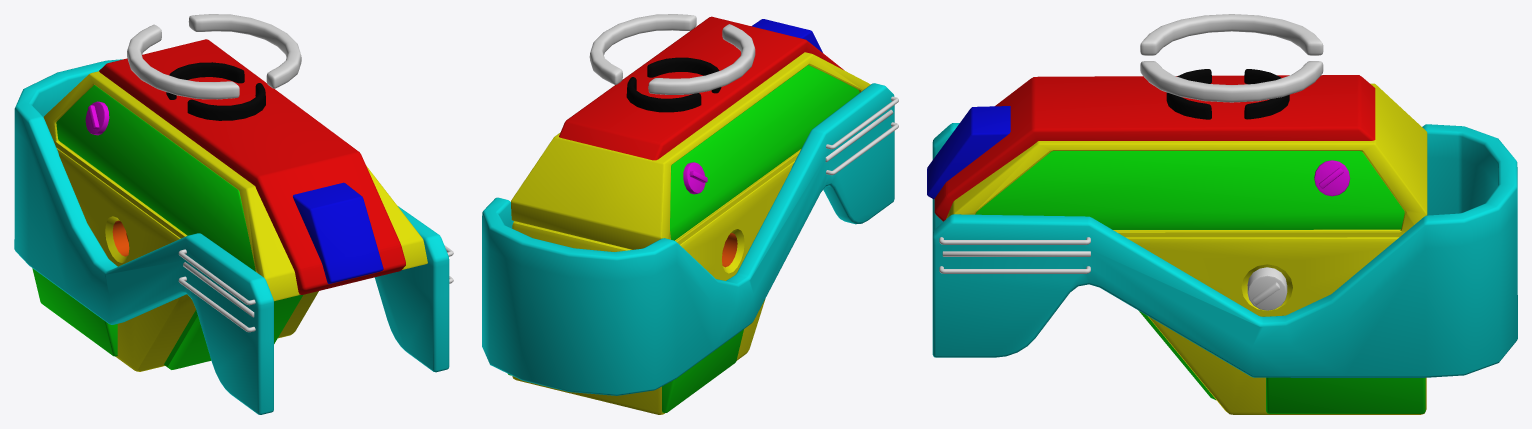
The model's file is Matrix_System.fbx.
3 views of the same model, side by side, from view 1: azimuth 30°, elevation 25°; view 2: azimuth 150°, elevation 25°; view 3: azimuth 270°, elevation 25° (orthographic). The views are drawn at different scales.
Parts seen in each view (by area): view 1: Matrix_Base, Matrix_Signal; view 2: Matrix_Base, Matrix_Signal; view 3: Matrix_Base, Matrix_Signal, Matrix_Pylon.
Part boxes in pixels (x1=…): Matrix_Base: x1=14, y1=39, x2=453, y2=414; Matrix_Signal: x1=127, y1=14, x2=301, y2=99; Matrix_Base: x1=482, y1=16, x2=898, y2=414; Matrix_Signal: x1=589, y1=14, x2=755, y2=94; Matrix_Base: x1=927, y1=69, x2=1517, y2=414; Matrix_Signal: x1=1140, y1=14, x2=1323, y2=102; Matrix_Pylon: x1=1247, y1=267, x2=1287, y2=310.
Bounding box in the file's own units: 99.21 × 139 × 229.
